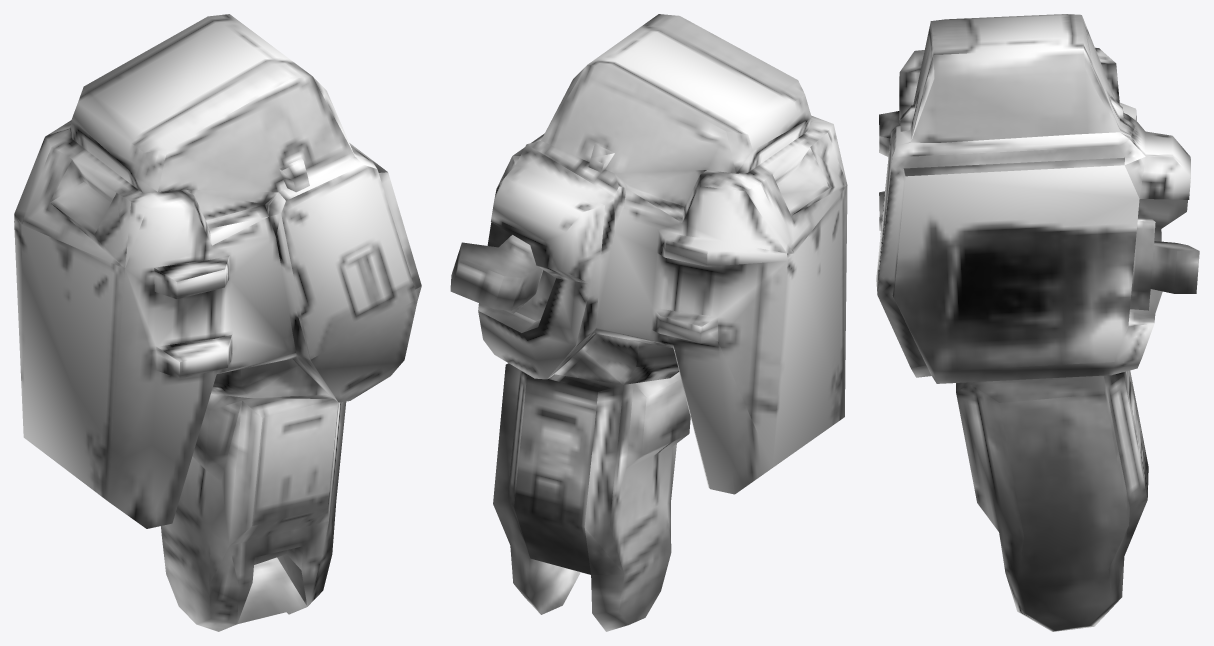
The model's file is r_upper.glb.
3 views of the same model, side by side, from view 1: azimuth 30°, elevation 25°; view 2: azimuth 150°, elevation 25°; view 3: azimuth 270°, elevation 25° (orthographic). The views are drawn at different scales.
Visible parts, largest first — view 1: r_upper; view 2: r_upper; view 3: r_upper.
Part boxes in pixels (x1,y1,x2,y2): r_upper: (14, 14, 421, 631); r_upper: (450, 14, 847, 631); r_upper: (876, 14, 1199, 631).
Bounding box in the file's own units: 0.5245 × 0.9689 × 0.5007.
Materials: 3 (3 with a texture image).
